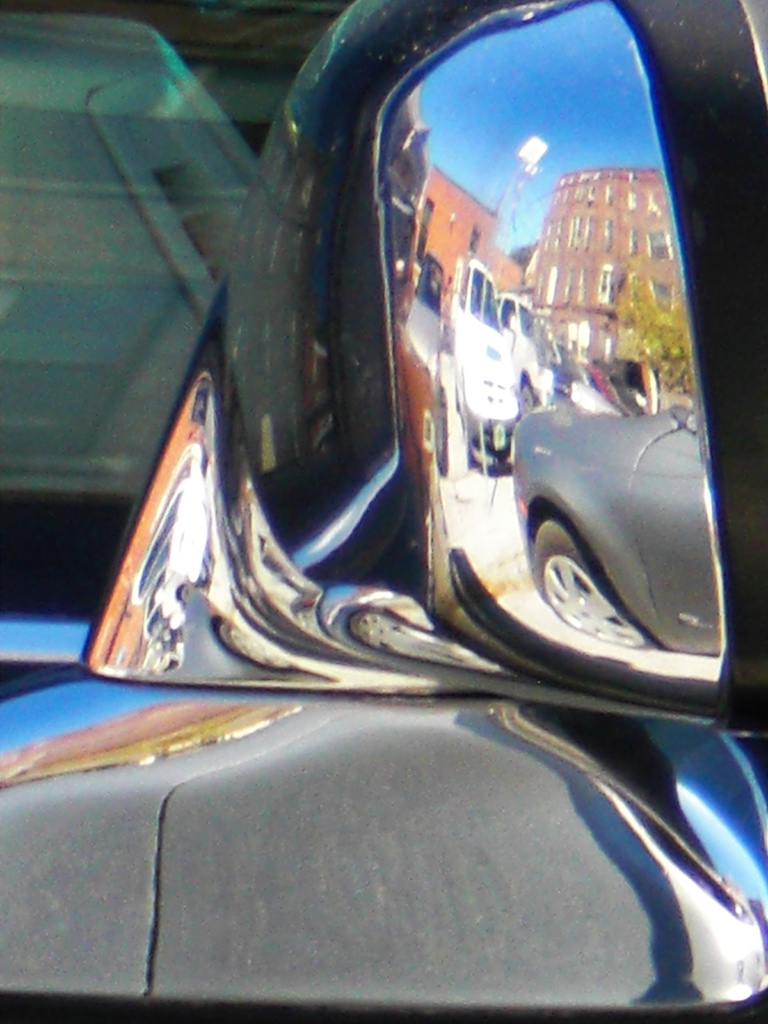cars: (0, 0, 767, 1023), (506, 393, 723, 669), (426, 253, 541, 491), (498, 280, 576, 426), (565, 350, 639, 416)
